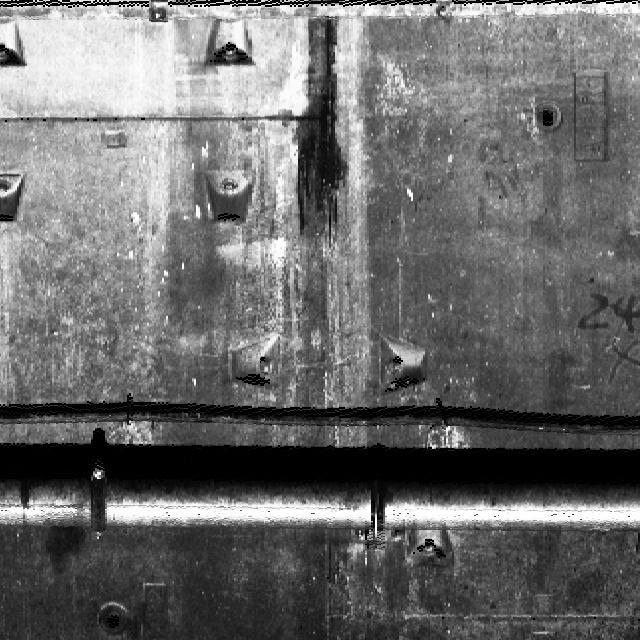leakage: (269, 0, 351, 260), (38, 515, 93, 575)
